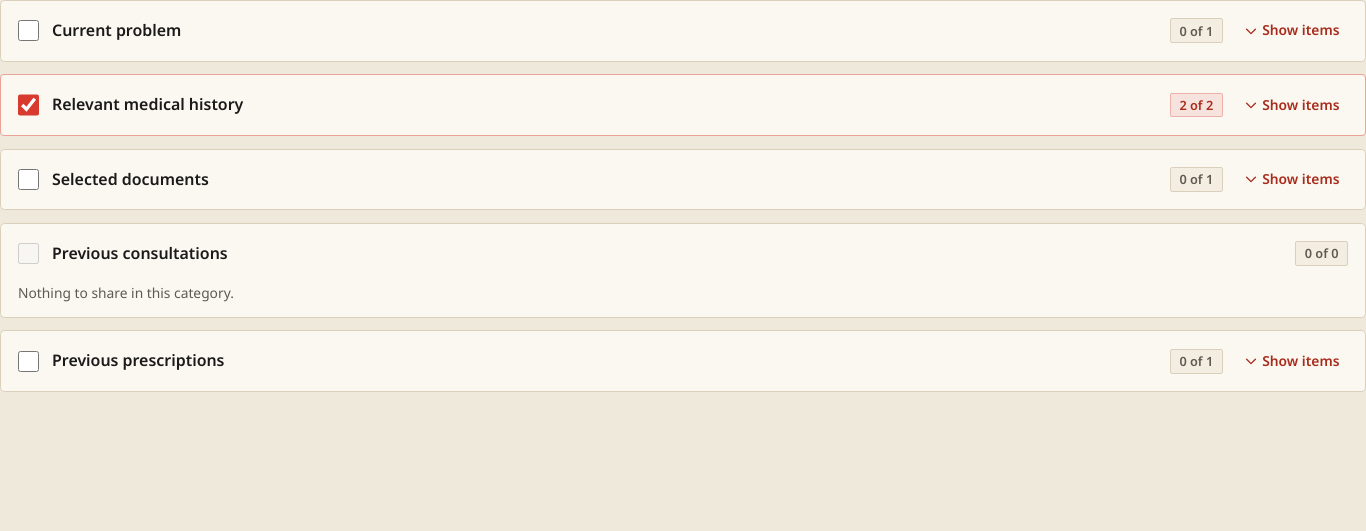
it: ShareSelector › individual items can be unticked, leaving the category partially selected
Click the button "Show items" next to "2 of 2" at (1292,105), box [1236, 86, 1348, 124]
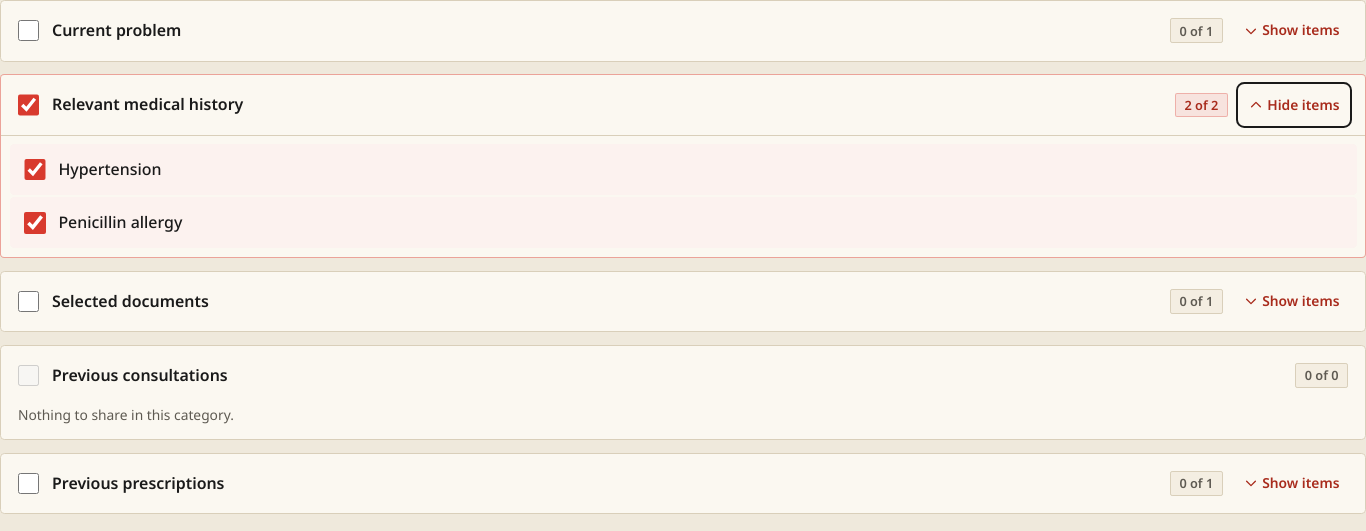
Click the checkbox labelled "Penicillin allergy" at (35,223), box [24, 212, 46, 234]
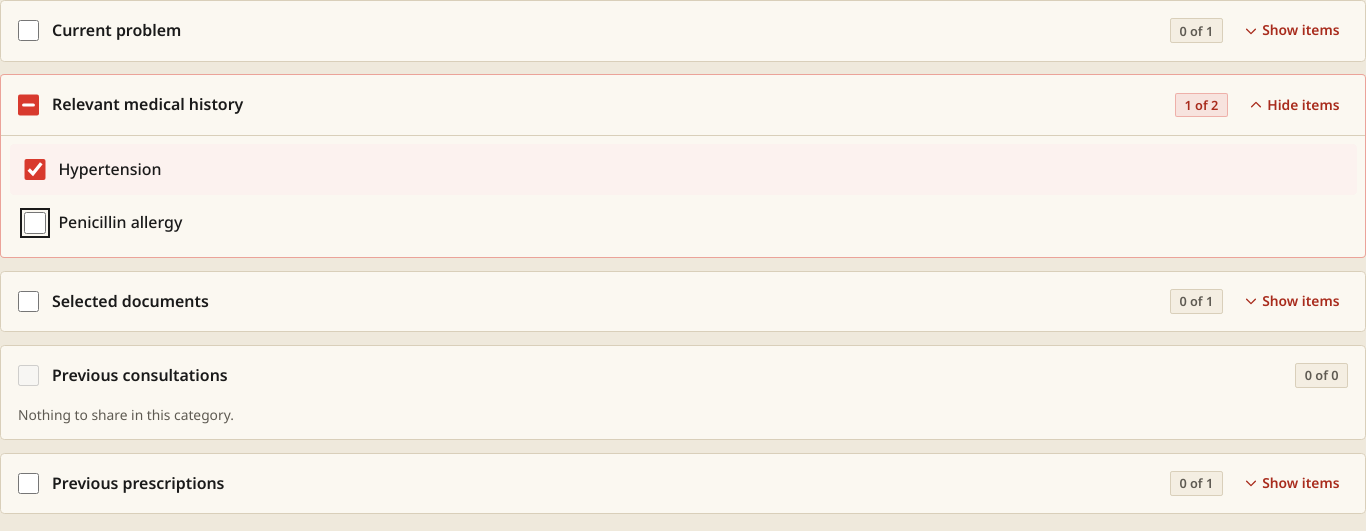
Check: the text "1 of 2" is shown, box [1175, 93, 1228, 117]
